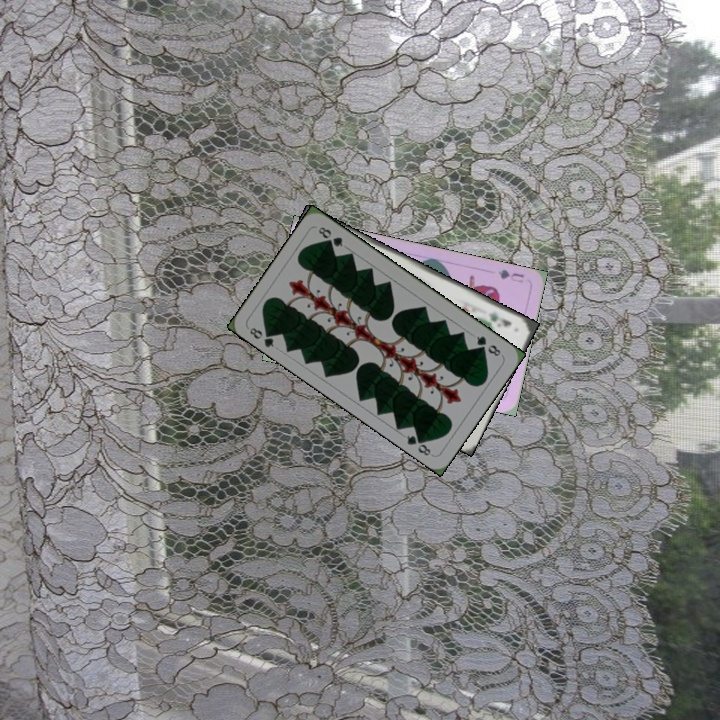G8: (472, 332, 505, 359), (245, 323, 278, 350)
GK: (485, 307, 514, 330)
GU: (494, 265, 526, 285)
